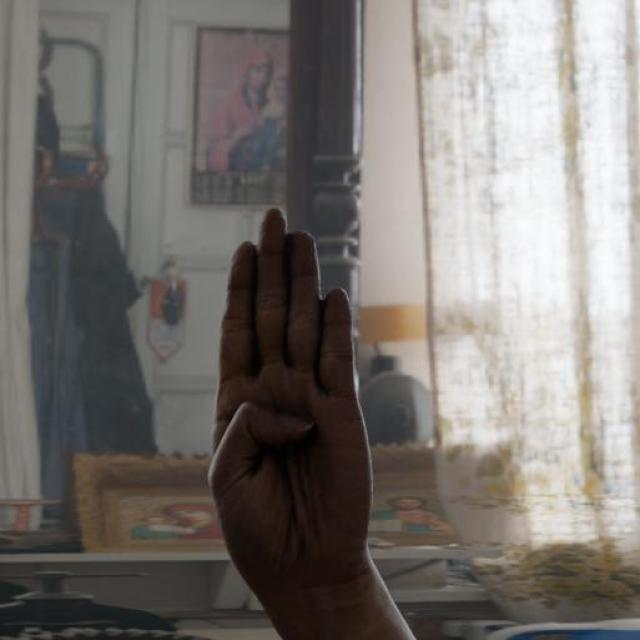B: (204, 198, 386, 580)
